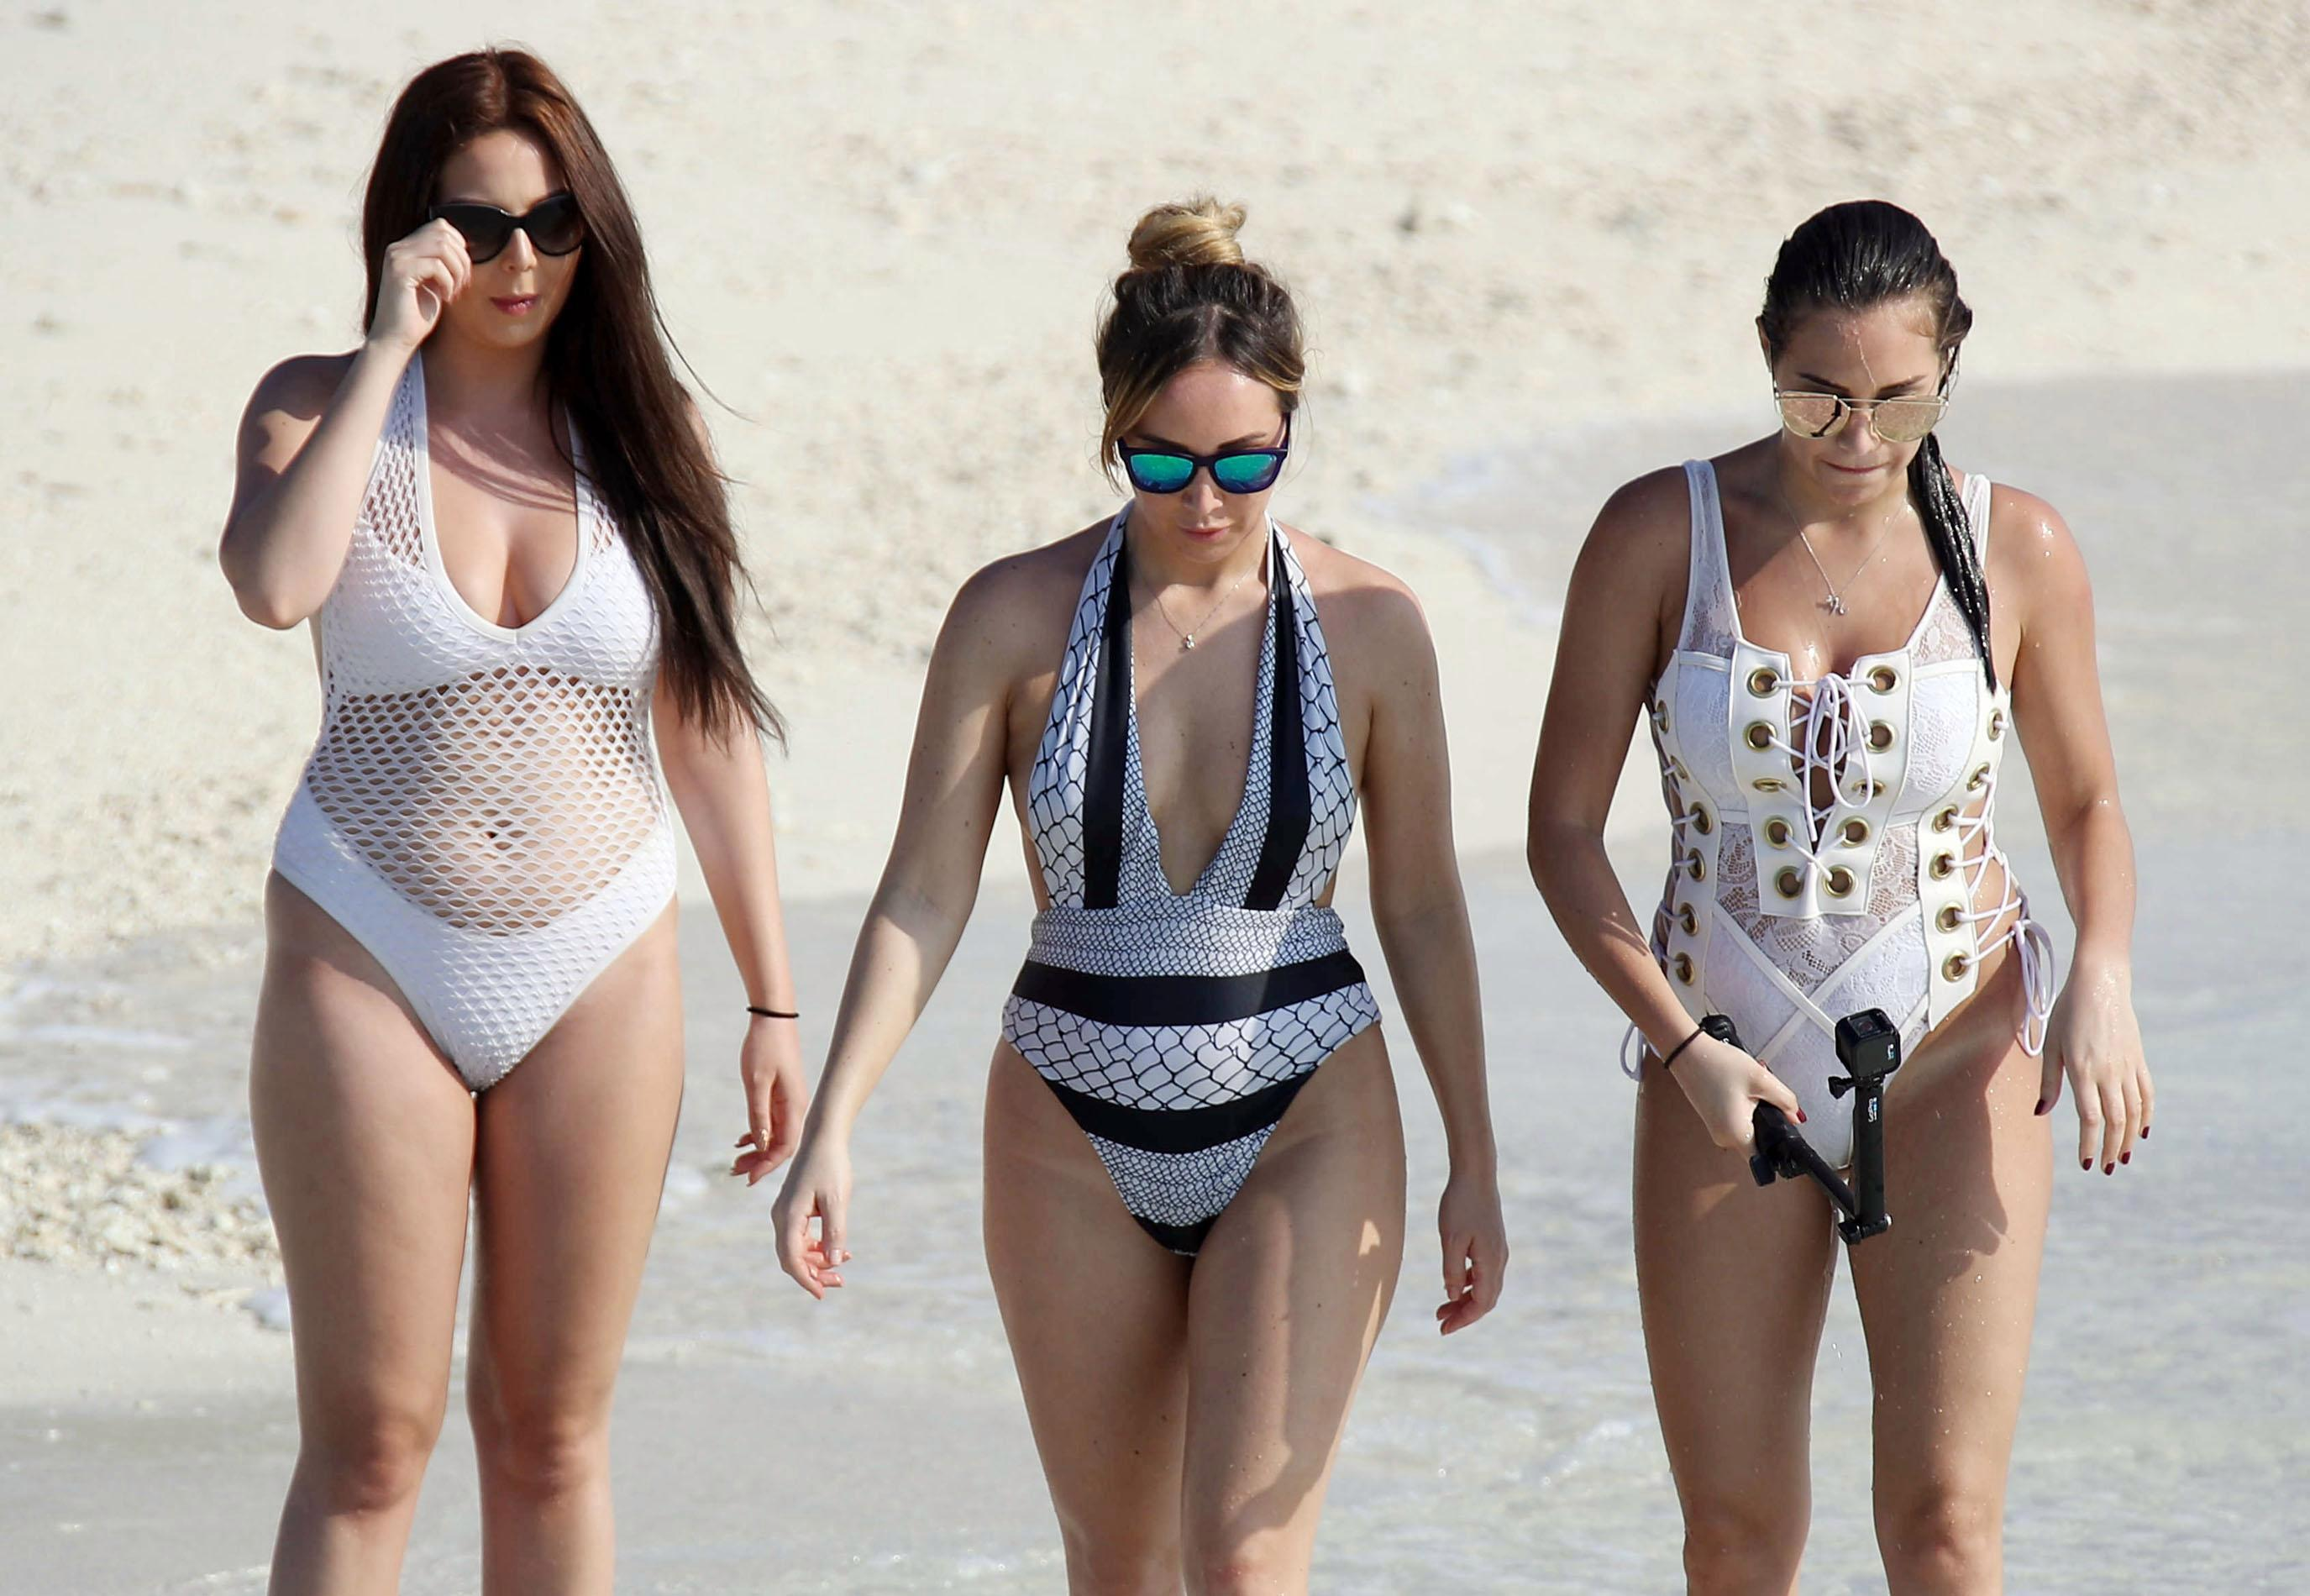Person: (758, 172, 1524, 1596), (1472, 181, 2223, 1596), (161, 13, 816, 1596)
